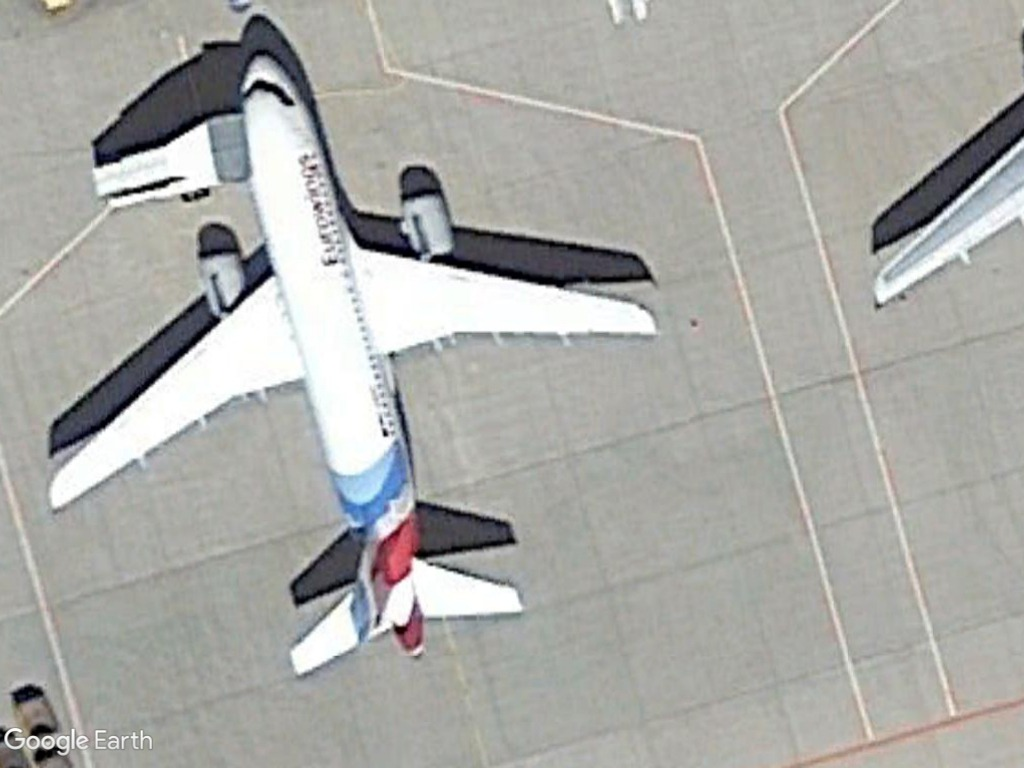airliner: (38, 46, 664, 684)
